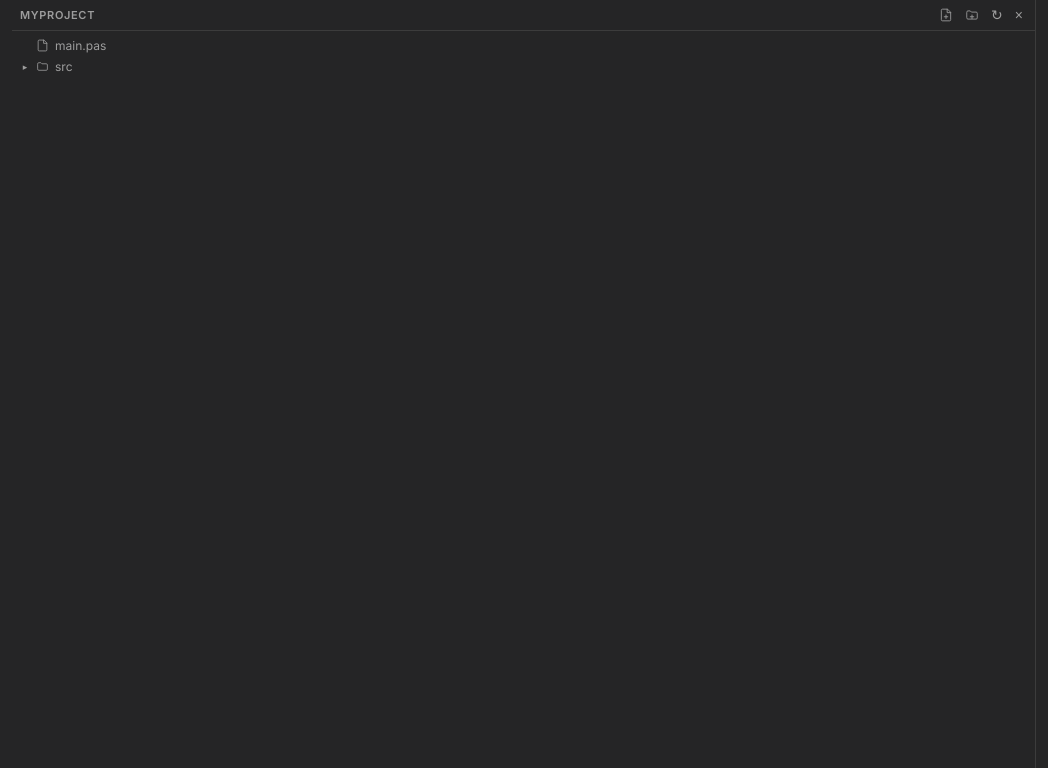
Scenario: FileTree create file and folder › keeps the input open and shows the error message when the name conflicts with an existing entry
Click the button titled "New File".
click(946, 15)  # box left=935, top=6, right=957, bottom=24
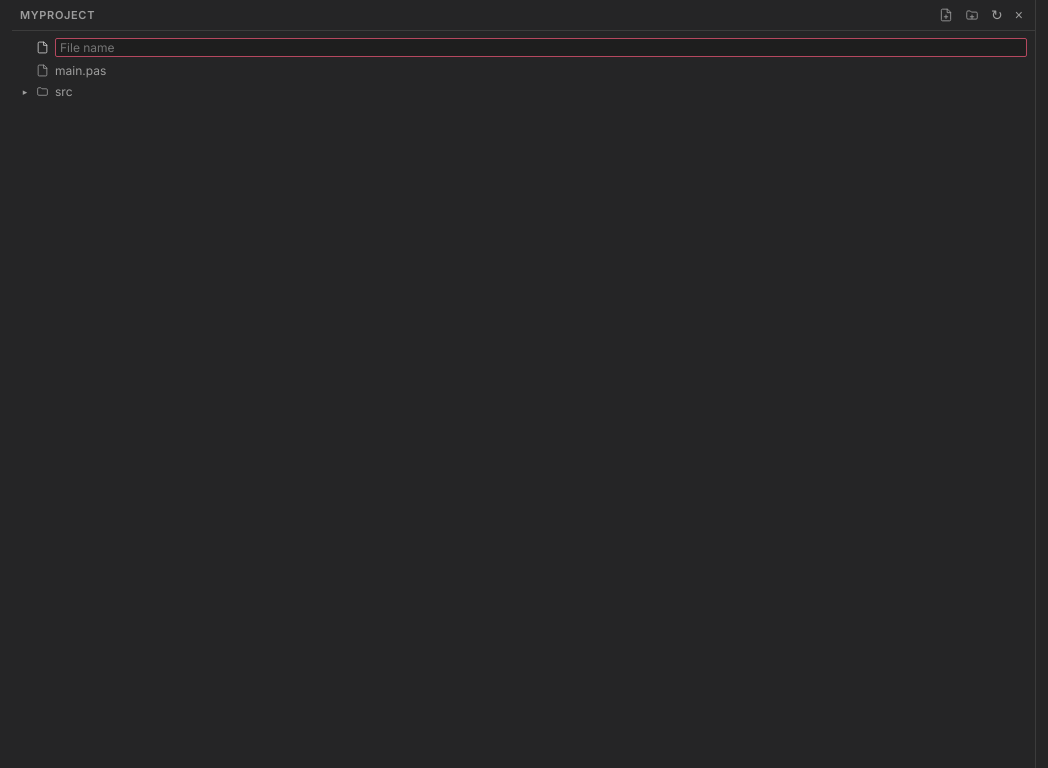
Type "main.pas" into the field with class "new-entry-input".
click(541, 48); type("main.pas")  # box left=55, top=38, right=1027, bottom=57
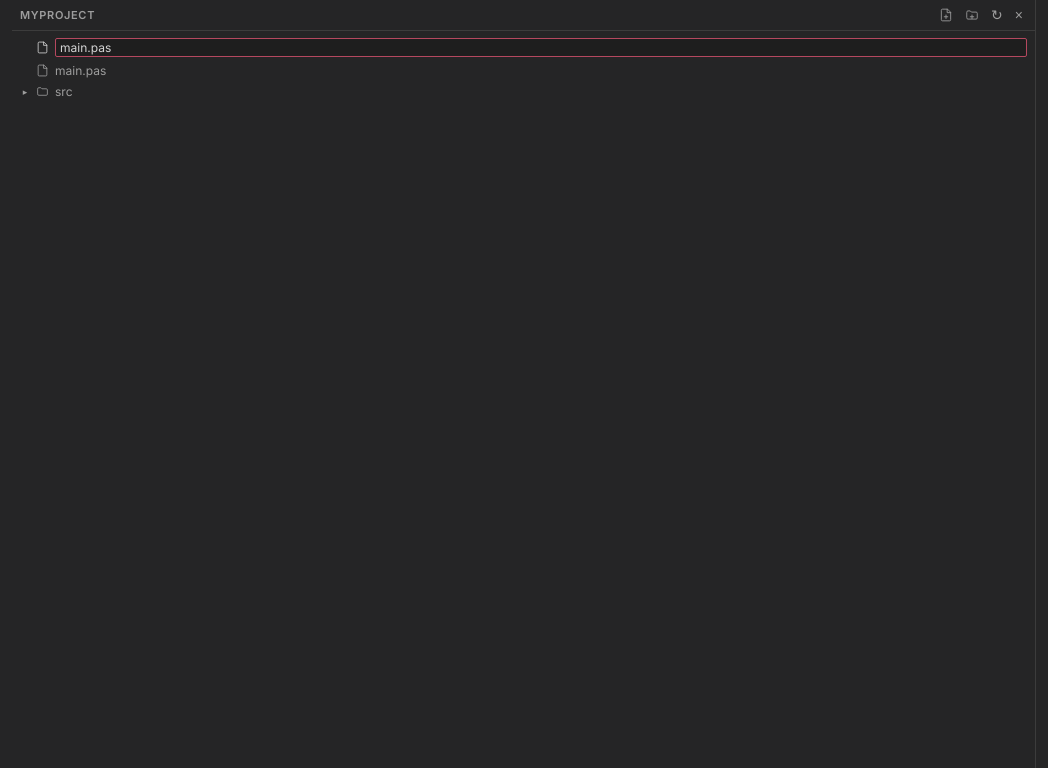
Press Enter in the field with class "new-entry-input", box left=55, top=38, right=1027, bottom=57
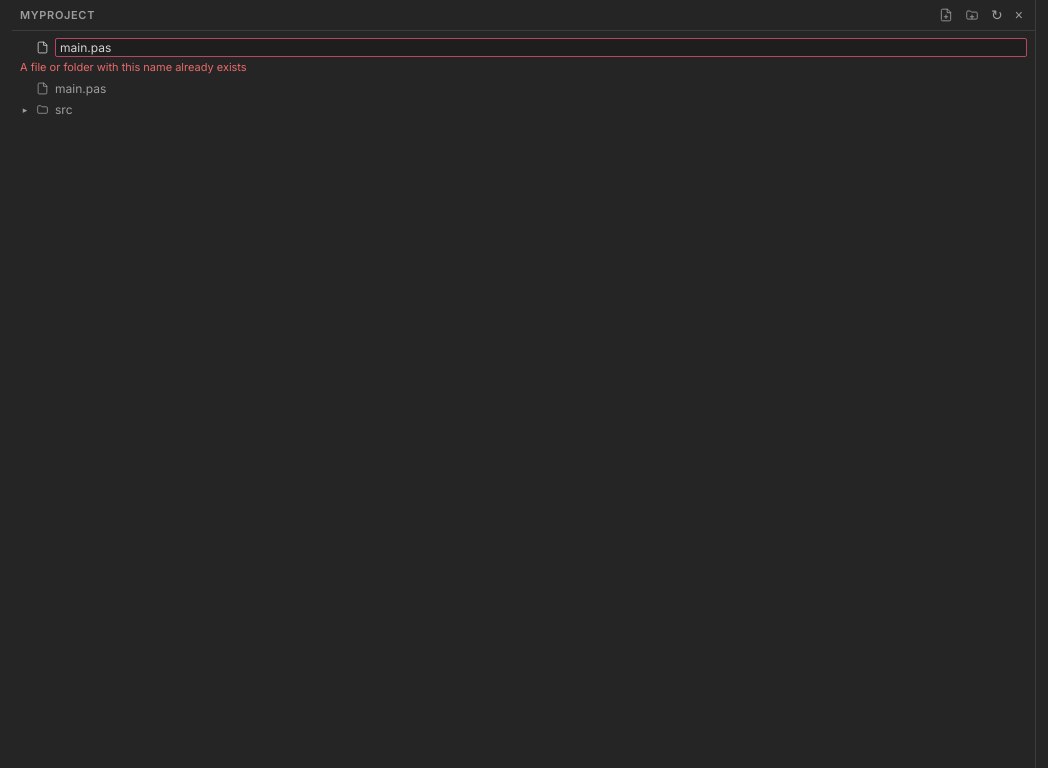
Expected: the text "A file or folder with this name already exists" is shown, left=20, top=60, right=247, bottom=74
